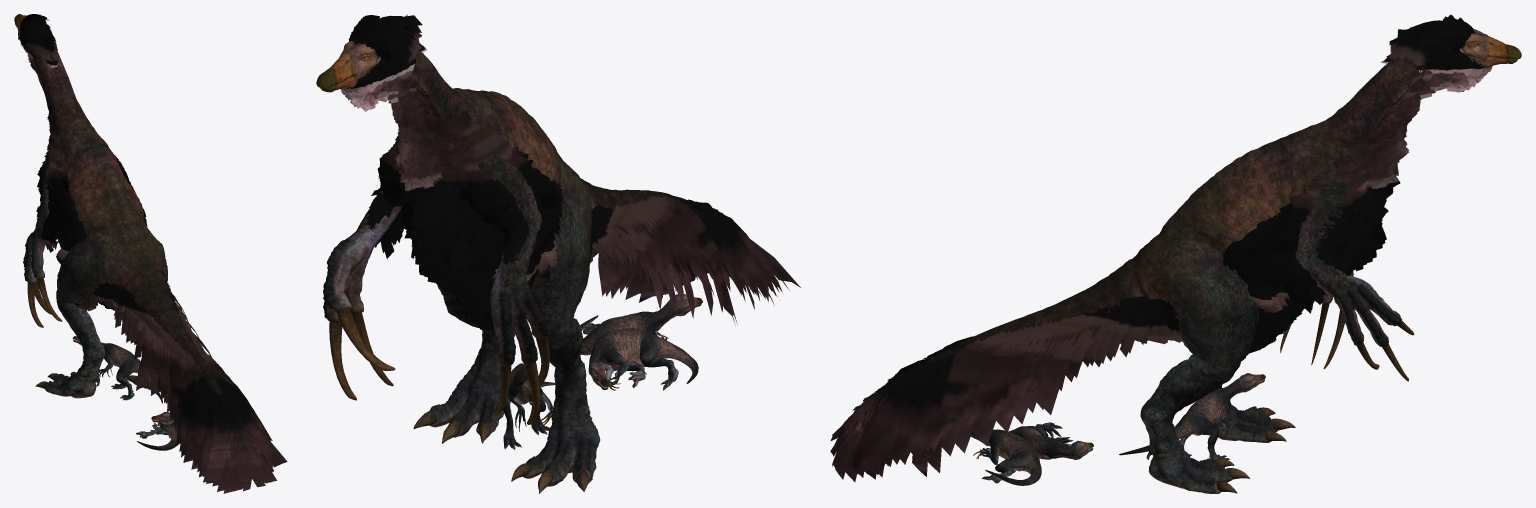
Rendered from therizinosaurus.glb.
3 renders of one model, left to right at view 1: azimuth 30°, elevation 25°; view 2: azimuth 150°, elevation 25°; view 3: azimuth 270°, elevation 25°, orthographic. The views are drawn at different scales.
Parts seen in each view (by area): view 1: hair1_feathers_0, meshBase1_A_colA_0, meshBase1_A_col_B_0, babys_B_Col_B_0, babys_B_Col_A_0, nails_nails1_0; view 2: hair1_feathers_0, meshBase1_A_colA_0, meshBase1_A_col_B_0, babys_B_Col_A_0, nails_nails1_0, babys_B_Col_B_0, claws_claws1_0; view 3: hair1_feathers_0, meshBase1_A_colA_0, meshBase1_A_col_B_0, babys_B_Col_A_0, babys_B_Col_B_0, nails_nails1_0, claws_claws1_0.
Boxes of the visible parts, x1,y1,x2,y2 form: hair1_feathers_0: [18, 14, 287, 493]; meshBase1_A_colA_0: [14, 14, 165, 290]; meshBase1_A_col_B_0: [45, 223, 222, 398]; babys_B_Col_B_0: [114, 361, 176, 450]; babys_B_Col_A_0: [72, 336, 176, 438]; nails_nails1_0: [27, 241, 160, 427]; hair1_feathers_0: [340, 14, 800, 332]; meshBase1_A_colA_0: [316, 41, 595, 366]; meshBase1_A_col_B_0: [429, 172, 690, 486]; babys_B_Col_A_0: [507, 294, 702, 422]; nails_nails1_0: [329, 307, 668, 431]; babys_B_Col_B_0: [503, 315, 698, 448]; claws_claws1_0: [413, 323, 671, 493]; hair1_feathers_0: [830, 14, 1492, 482]; meshBase1_A_colA_0: [1122, 29, 1521, 346]; meshBase1_A_col_B_0: [927, 245, 1277, 493]; babys_B_Col_A_0: [970, 373, 1265, 472]; babys_B_Col_B_0: [985, 415, 1225, 485]; nails_nails1_0: [973, 302, 1414, 459]; claws_claws1_0: [982, 407, 1295, 493].
Size of the model in its own units: 2.12 by 5.43 by 7.62.
Materials: 9 (8 with a texture image).
